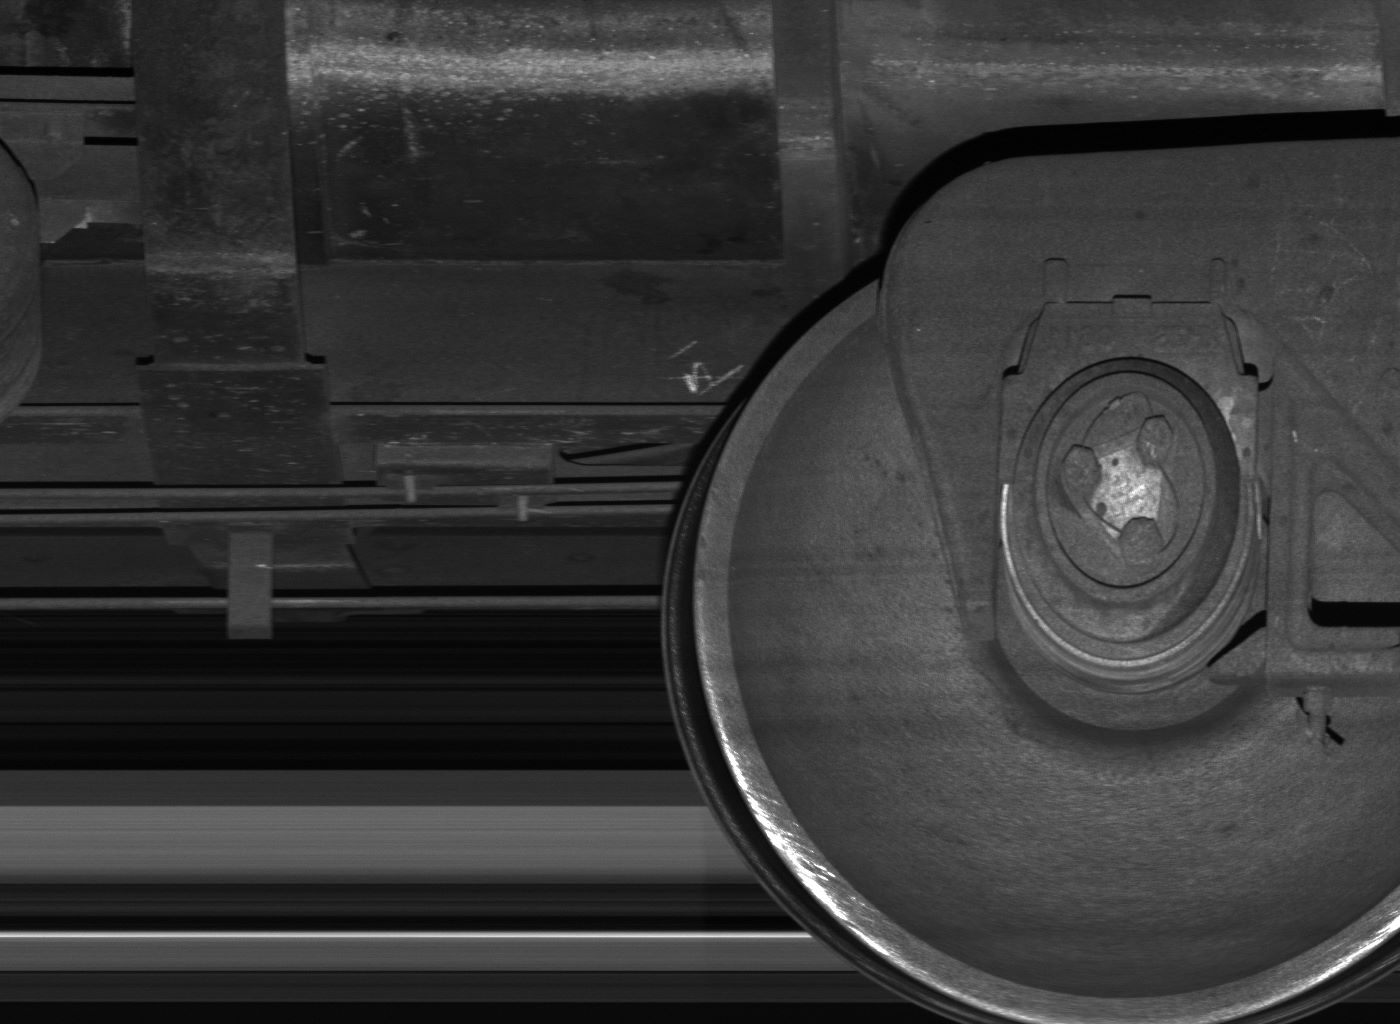normal: (228, 532, 276, 641)
